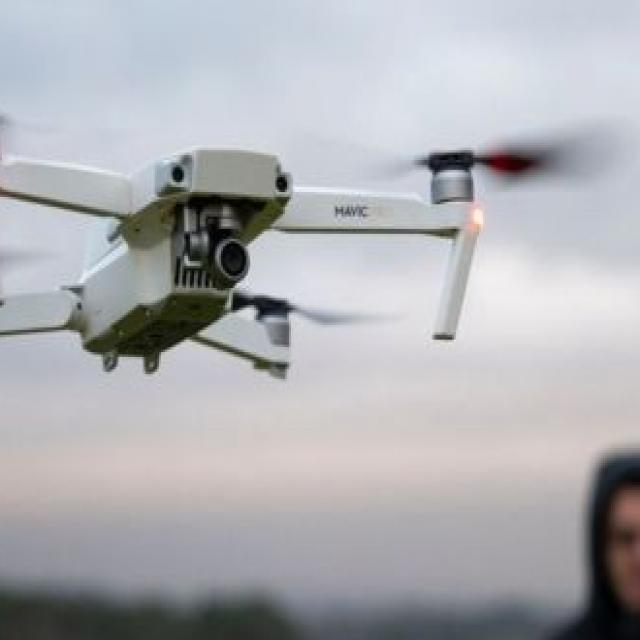drone: (0, 39, 512, 397)
